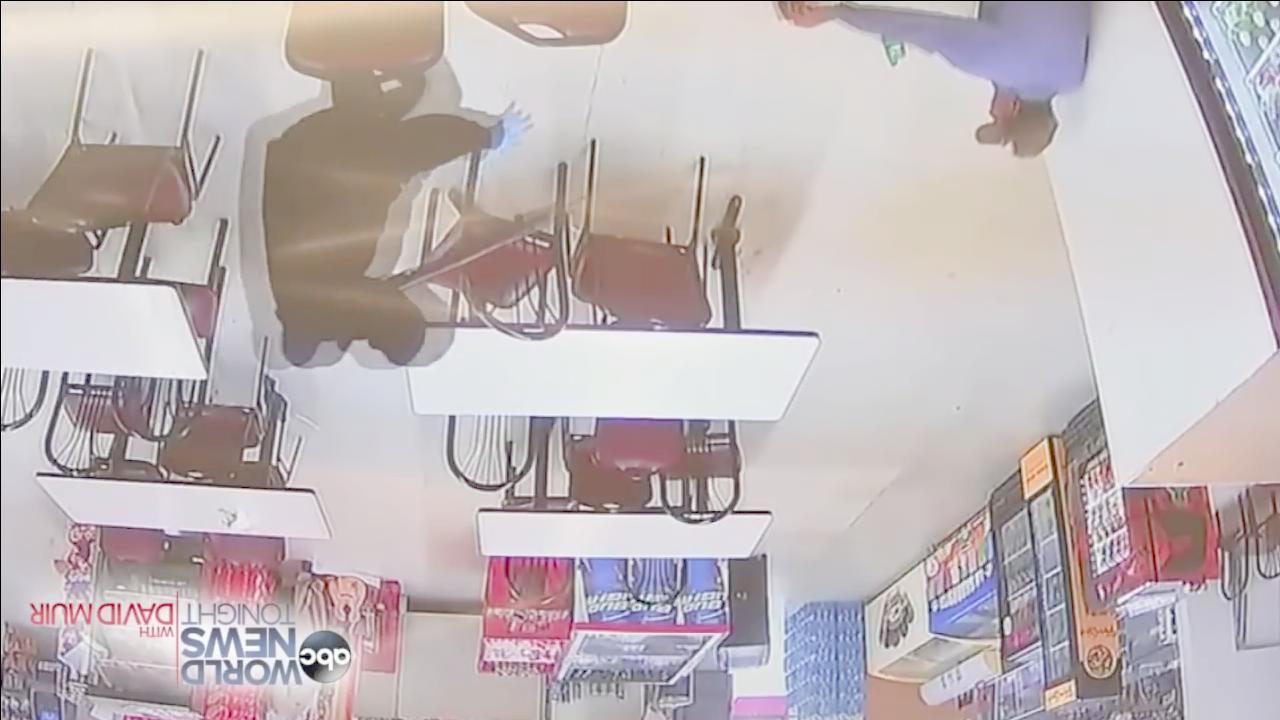gun: (367, 216, 551, 288)
